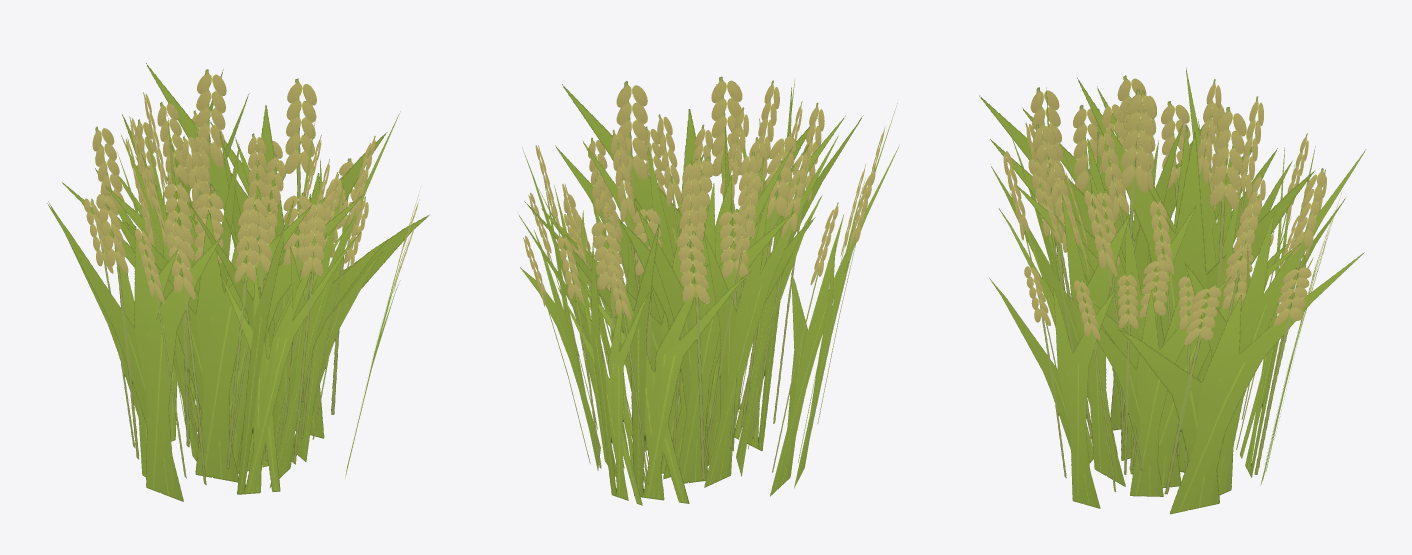
The model's file is Furn_Grass_Tall_A.fbx.
3 views of the same model, side by side, from view 1: azimuth 30°, elevation 25°; view 2: azimuth 150°, elevation 25°; view 3: azimuth 270°, elevation 25° (orthographic). The views are drawn at different scales.
Parts seen in each view (by area): view 1: Furn_Grass_Tall_A; view 2: Furn_Grass_Tall_A; view 3: Furn_Grass_Tall_A.
Part boxes in pixels (x1,y1,x2,y2): Furn_Grass_Tall_A: [47, 63, 429, 501]; Furn_Grass_Tall_A: [518, 76, 899, 505]; Furn_Grass_Tall_A: [979, 67, 1366, 514].
Size of the model in its own units: 0.8 by 0.78 by 0.8.
1 material, 1 textured.
